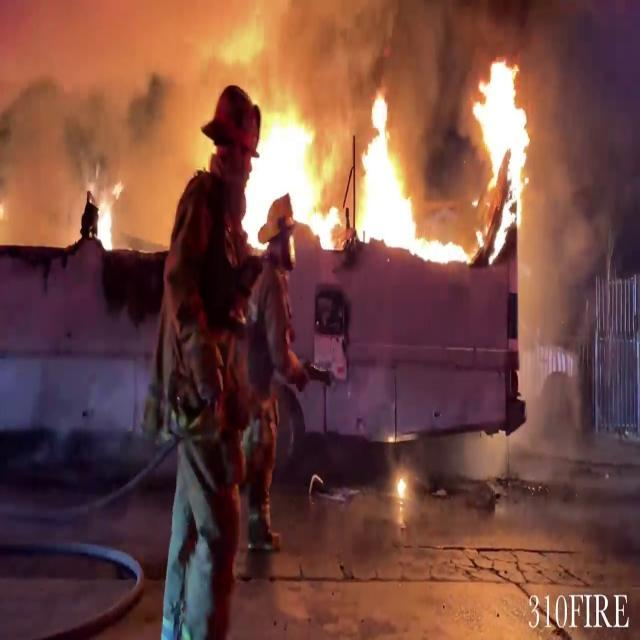Fire: (236, 83, 474, 269), (466, 56, 538, 226)
Smoke: (0, 0, 225, 242)
